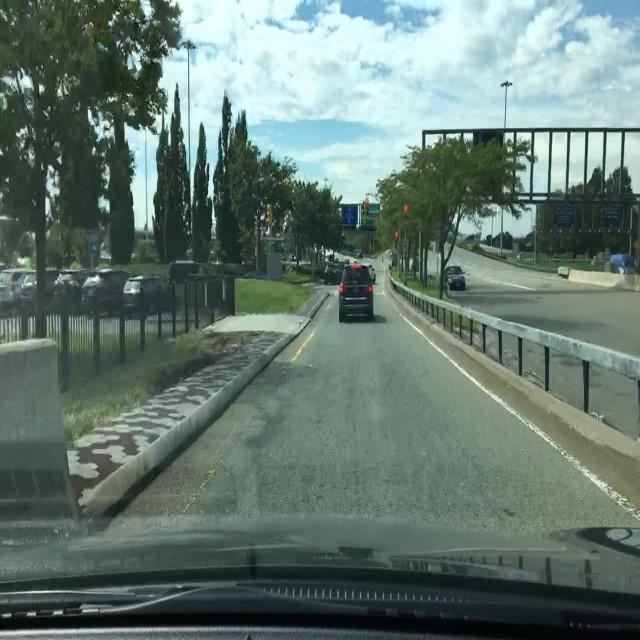normal: (325, 242, 409, 346)
